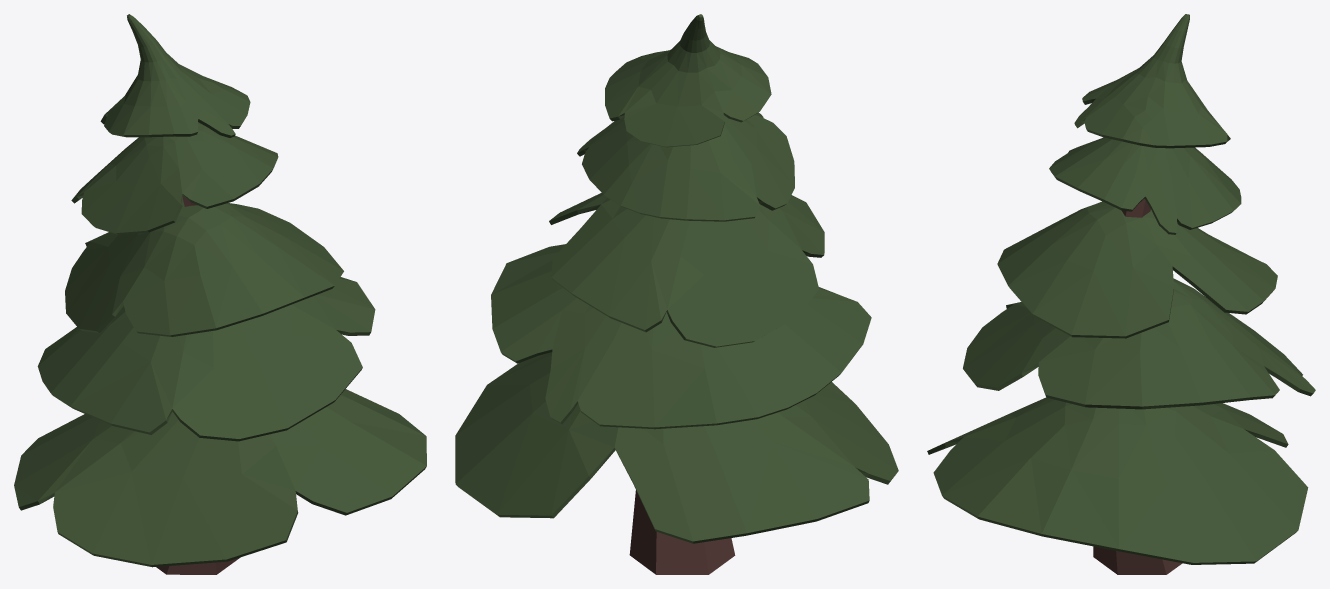
Rendered from PineTree_1.glb.
The picture shows the model from 3 angles, left to right: view 1: azimuth 30°, elevation 25°; view 2: azimuth 150°, elevation 25°; view 3: azimuth 270°, elevation 25°; orthographic projection. The views are drawn at different scales.
Parts seen in each view (by area): view 1: PineTree_1; view 2: PineTree_1; view 3: PineTree_1.
Boxes of the visible parts, <box> form: PineTree_1: <box>14,14,426,574</box>; PineTree_1: <box>455,14,898,574</box>; PineTree_1: <box>927,14,1315,574</box>.
Size of the model in its own units: 1.96 by 2.7 by 1.82.
